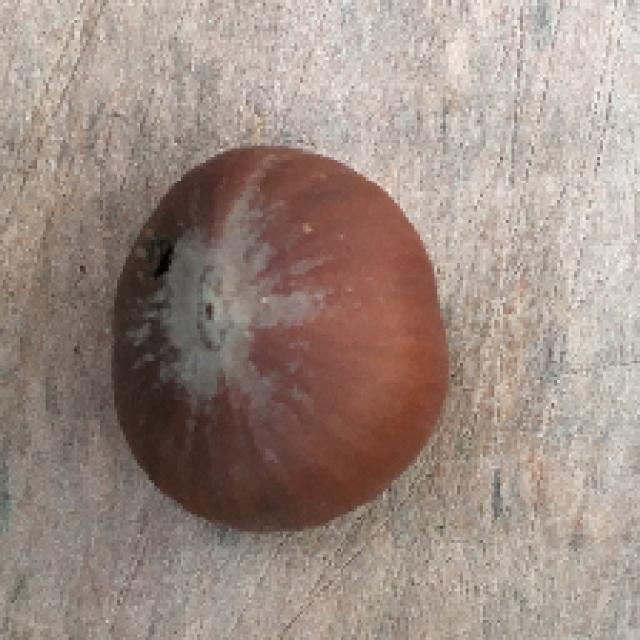DamagedHazelnut: (114, 148, 449, 527)
